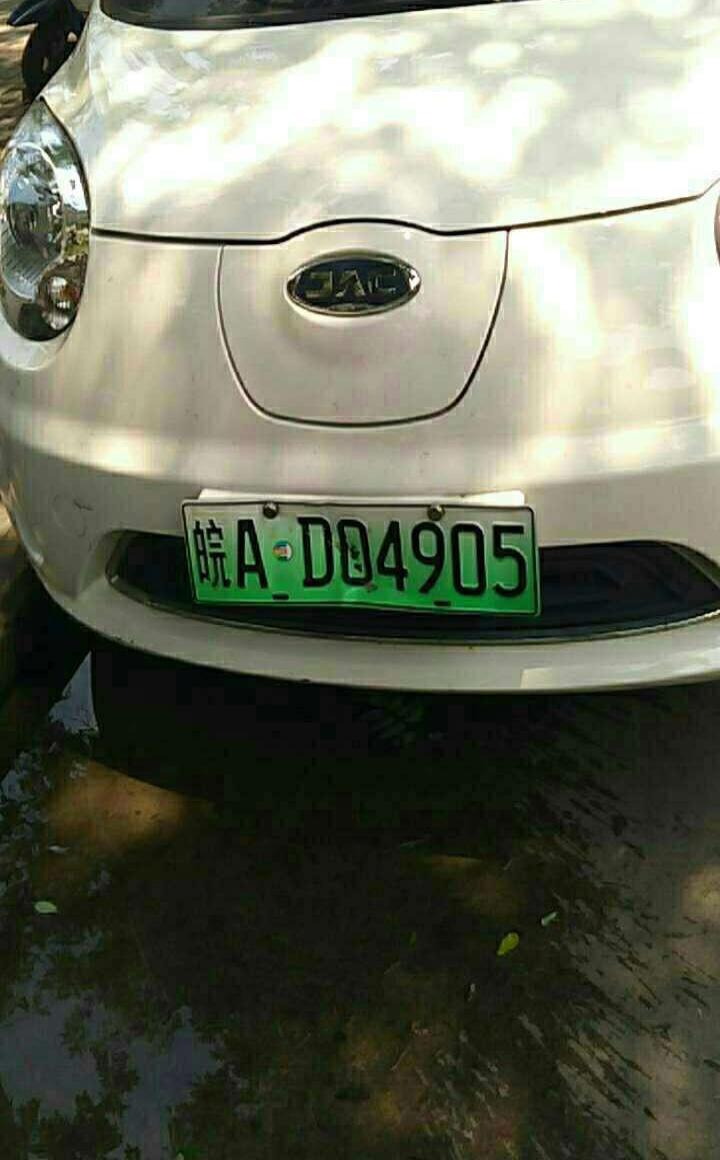car: (184, 504, 541, 608)
